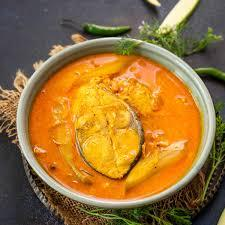Fish Curry: (43, 48, 189, 193)
